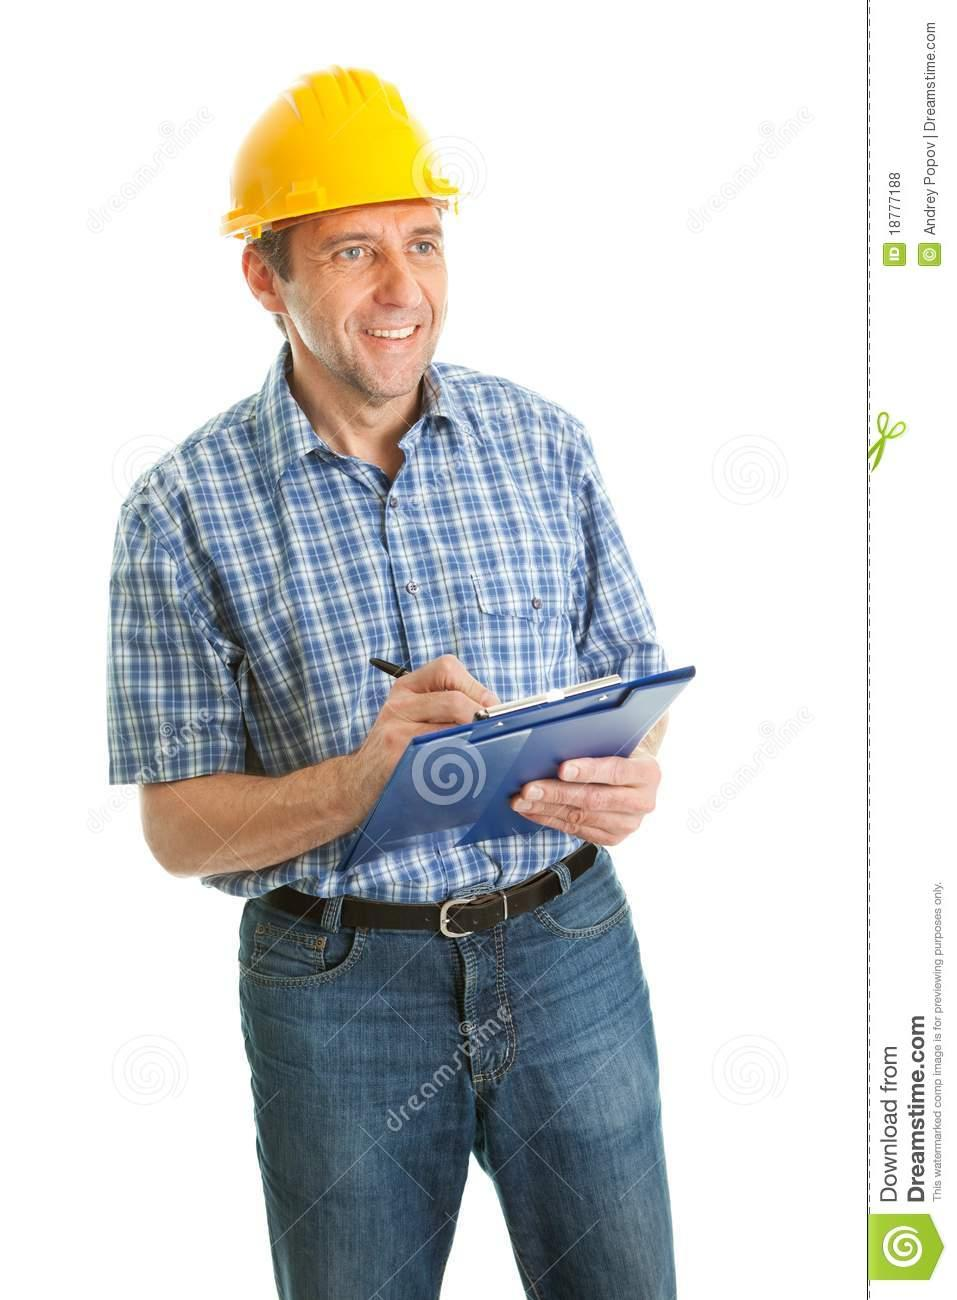helmet: (218, 68, 458, 246)
